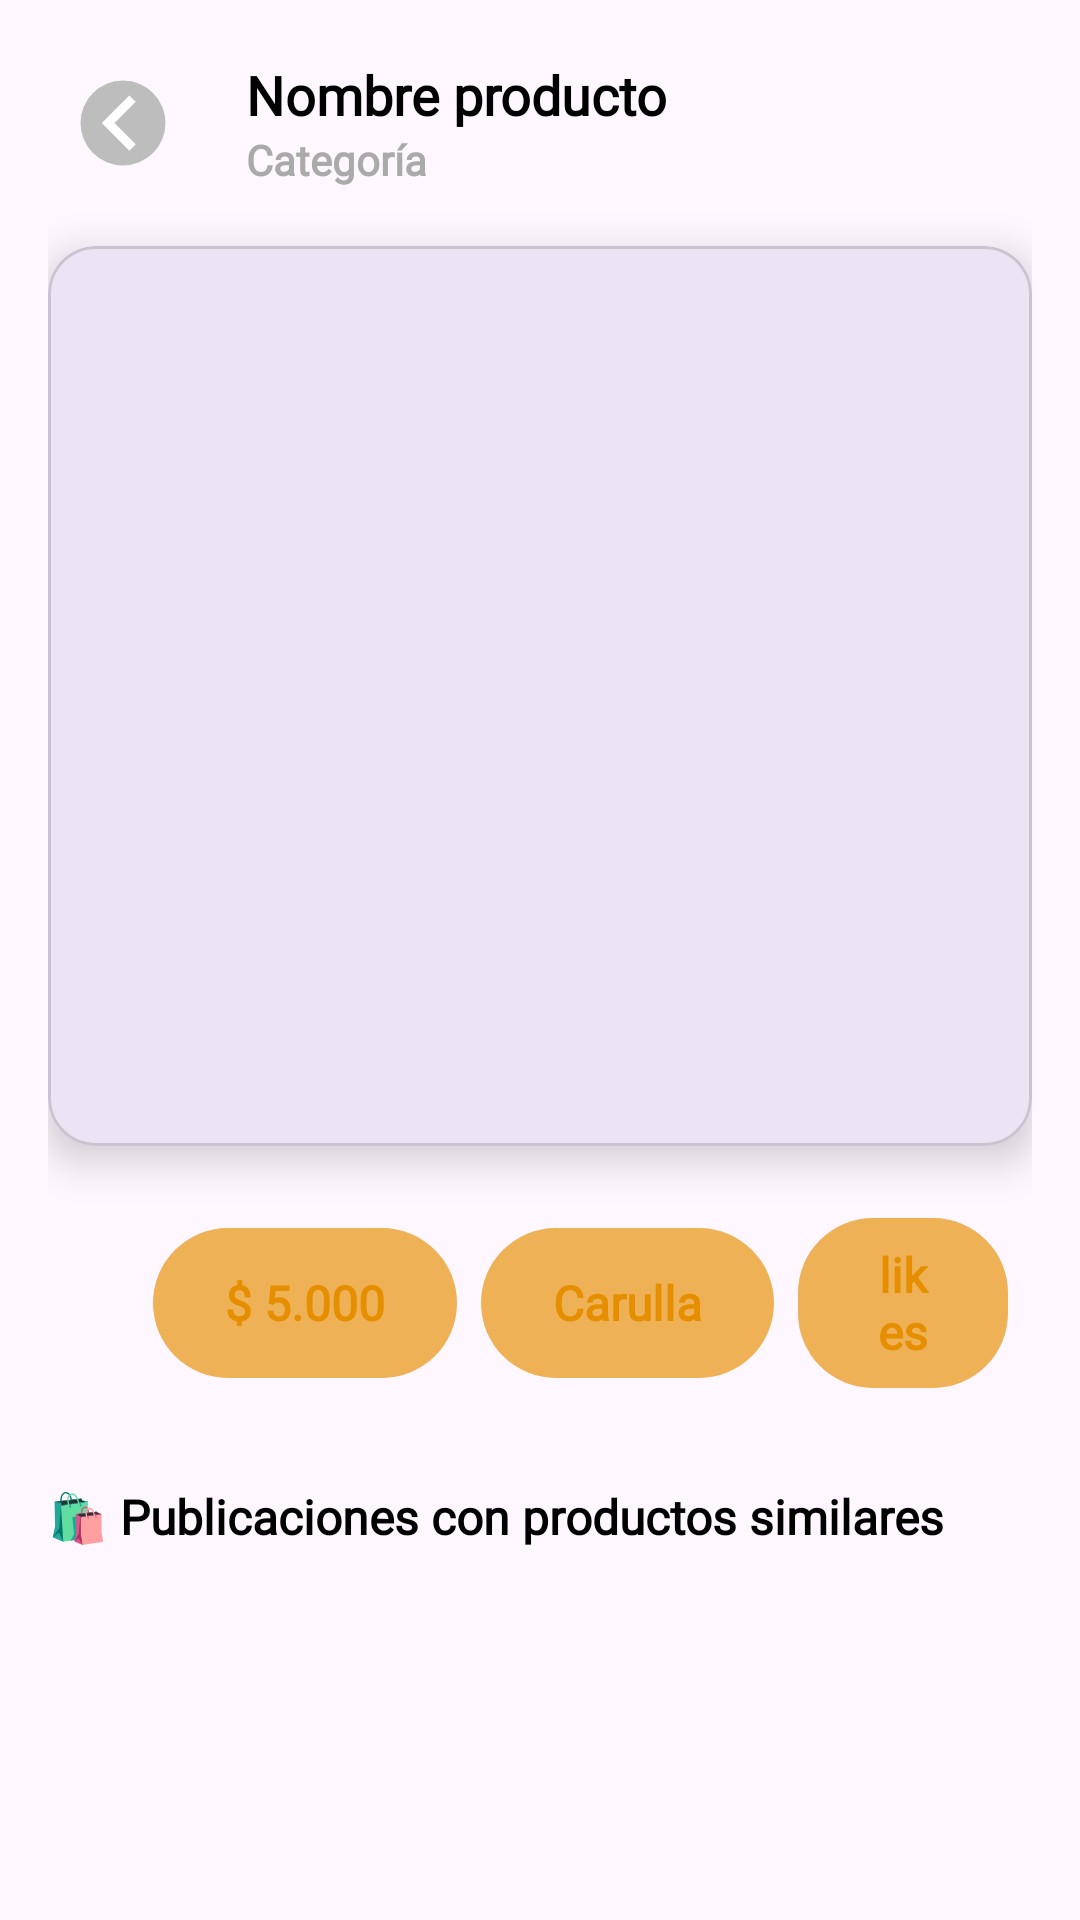

Named icons in this screenshot (1080w x 1920h) and their bounding boxes, (x1, y1, x2, y2):
Regresar: (80, 80, 166, 166)
